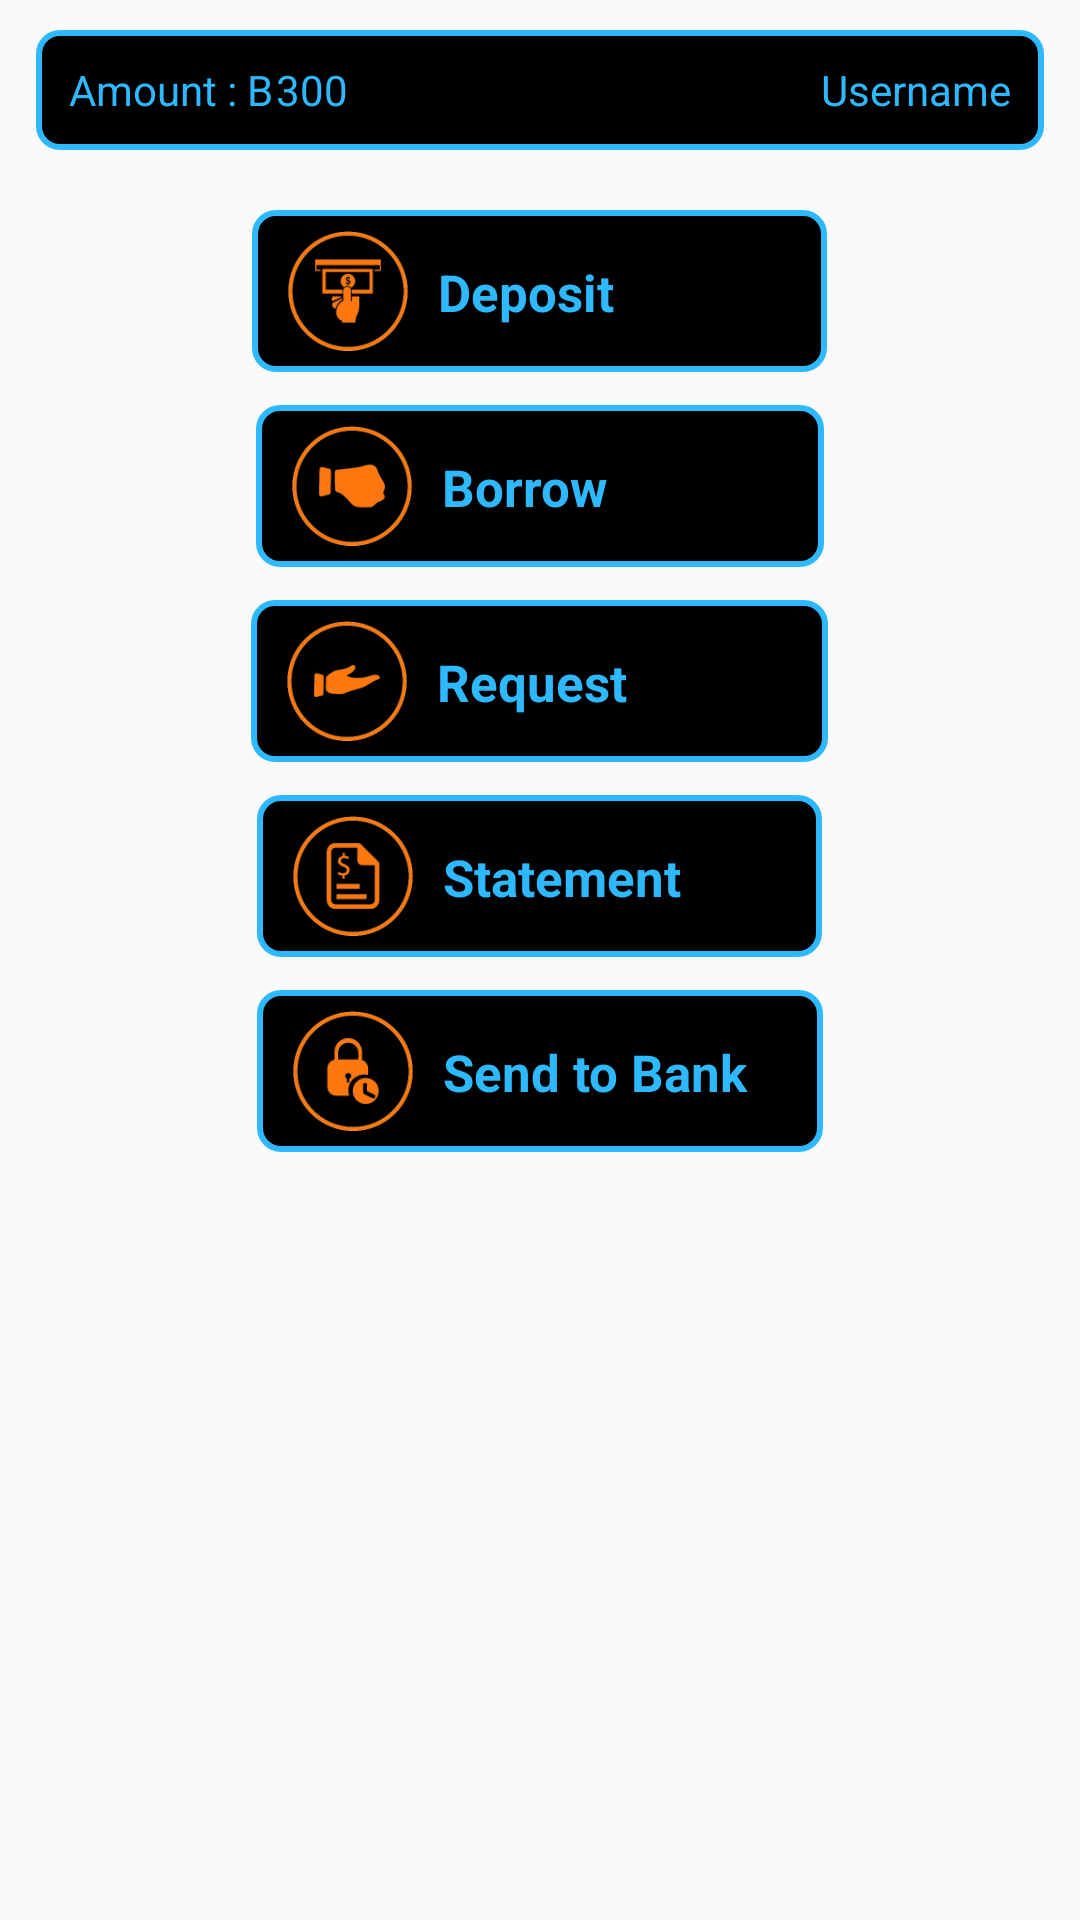

Where icons sit on this 1080x1920 app screen, as (x1, y1, x2, y2):
lock: (293, 1011, 413, 1131)
